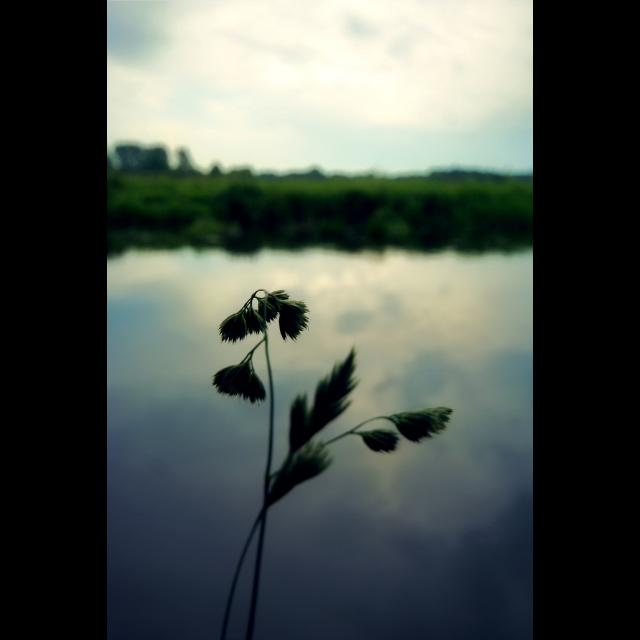Flower: (217, 286, 311, 344), (214, 366, 248, 396), (244, 369, 266, 408)
